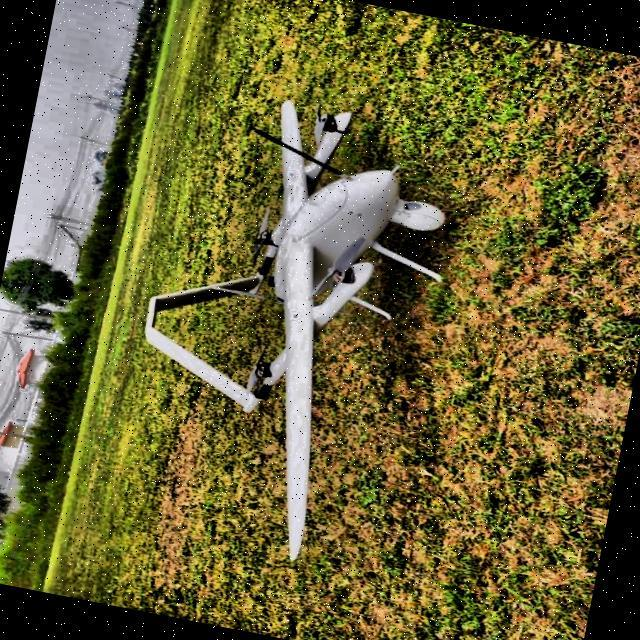iha: (95, 63, 476, 578)
